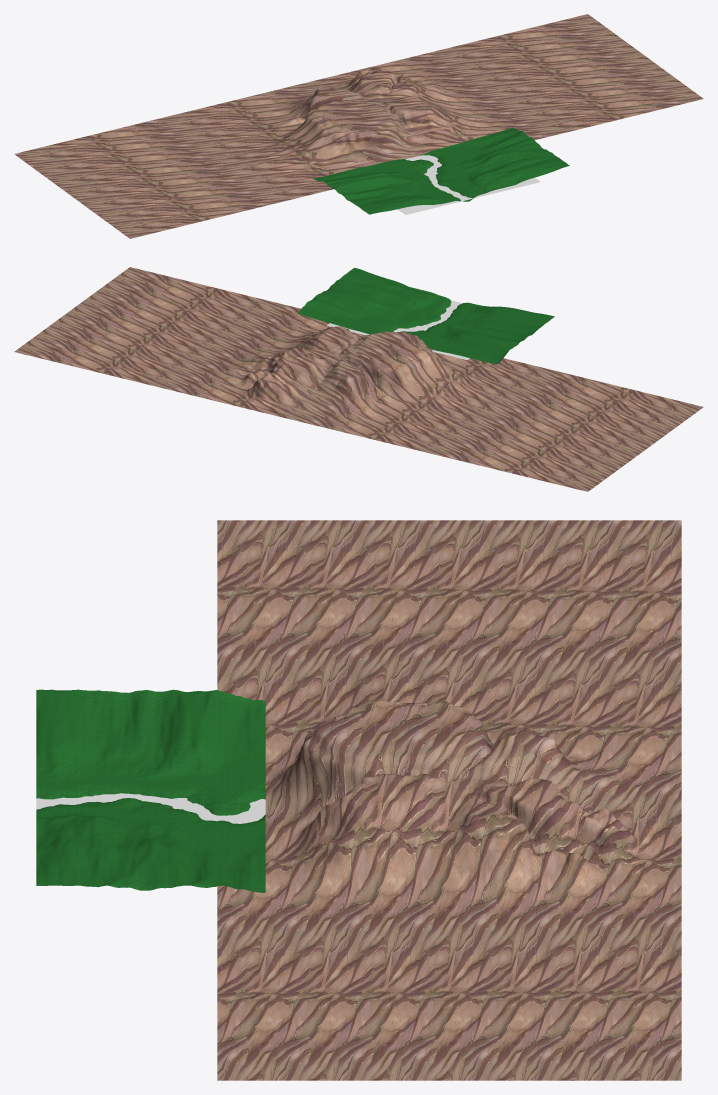
The model's file is RiverPlane2.fbx.
3 renders of one model, top to bottom at view 1: azimuth 30°, elevation 25°; view 2: azimuth 150°, elevation 25°; view 3: azimuth 270°, elevation 25°, orthographic. The views are drawn at different scales.
Visible parts, largest first — view 1: Landscape.003, Landscape.002, Landscape_plane.001; view 2: Landscape.003, Landscape.002, Landscape_plane.001; view 3: Landscape.003, Landscape.002, Landscape_plane.001.
Part boxes in pixels (bbox=[...]): Landscape.003: bbox=[14, 14, 703, 238]; Landscape.002: bbox=[312, 127, 569, 214]; Landscape_plane.001: bbox=[397, 155, 540, 214]; Landscape.003: bbox=[14, 267, 703, 491]; Landscape.002: bbox=[297, 268, 554, 364]; Landscape_plane.001: bbox=[326, 300, 469, 360]; Landscape.003: bbox=[217, 520, 681, 1080]; Landscape.002: bbox=[36, 689, 265, 892]; Landscape_plane.001: bbox=[36, 793, 265, 823].
Bounding box in the file's own units: 1125 × 51.51 × 548.
